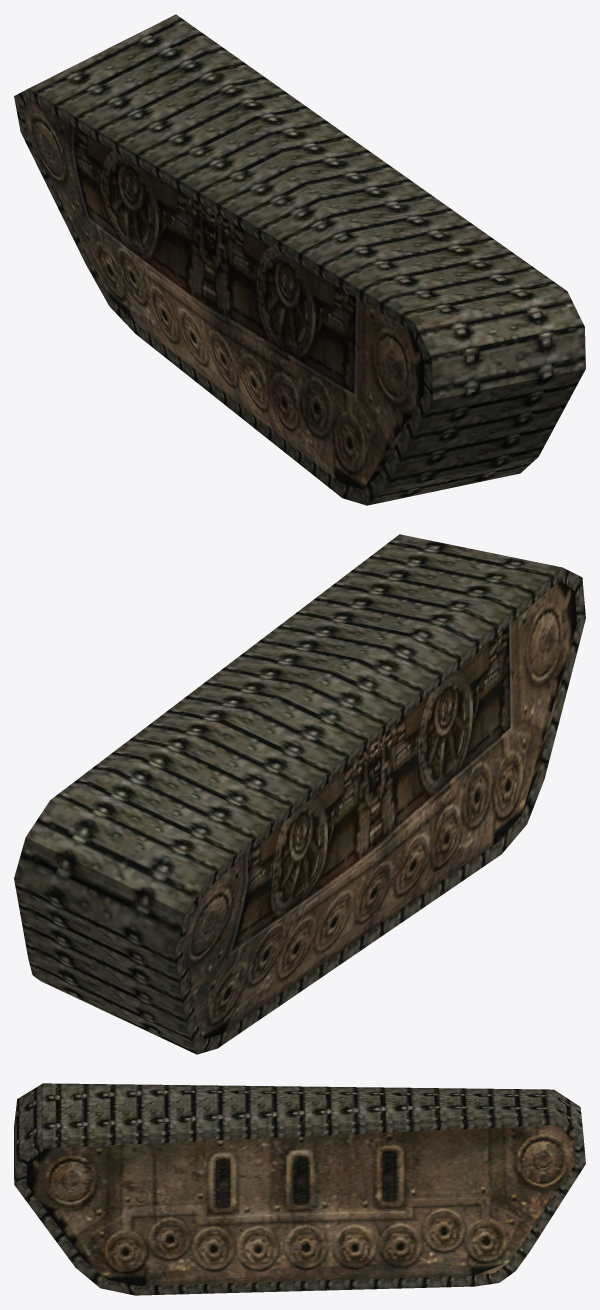
Rendered from poi_all_sandcrawler_debris_02_l1.fbx.
3 renders of one model, top to bottom at view 1: azimuth 30°, elevation 25°; view 2: azimuth 150°, elevation 25°; view 3: azimuth 270°, elevation 25°, orthographic. The views are drawn at different scales.
Parts seen in each view (by area): view 1: mesh_node; view 2: mesh_node; view 3: mesh_node.
Boxes of the visible parts, left/top/right/bottom form: mesh_node: left=14, top=14, right=585, bottom=505; mesh_node: left=14, top=534, right=585, bottom=1054; mesh_node: left=14, top=1083, right=585, bottom=1295.
Size of the model in its own units: 3.41 by 4.13 by 11.89.
